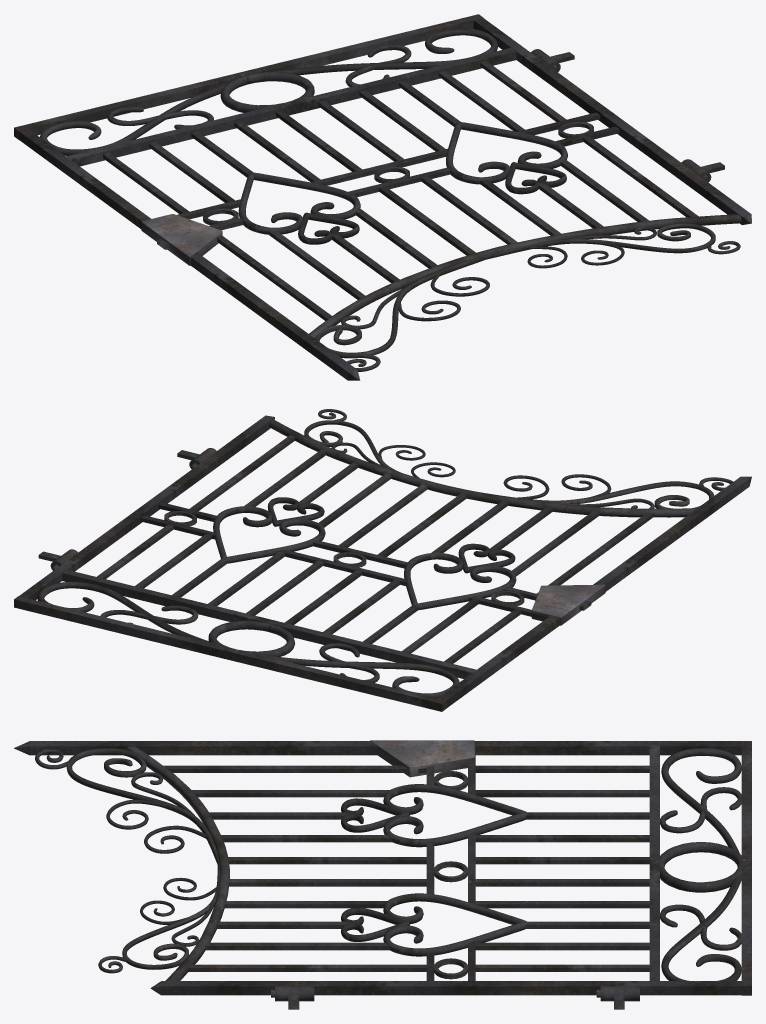
The model's file is GateDown.obj.
3 views of the same model, one above another, from view 1: azimuth 30°, elevation 25°; view 2: azimuth 150°, elevation 25°; view 3: azimuth 270°, elevation 25° (orthographic). The views are drawn at different scales.
Visible parts, largest first — view 1: Ancient_Gate_Model gate_left gate_main polySurface78 polySurface; view 2: Ancient_Gate_Model gate_left gate_main polySurface78 polySurface; view 3: Ancient_Gate_Model gate_left gate_main polySurface78 polySurface.
Part boxes in pixels (left/top/right/bottom): Ancient_Gate_Model gate_left gate_main polySurface78 polySurface: left=14, top=14, right=751, bottom=380; Ancient_Gate_Model gate_left gate_main polySurface78 polySurface: left=14, top=409, right=751, bottom=711; Ancient_Gate_Model gate_left gate_main polySurface78 polySurface: left=14, top=740, right=751, bottom=1001.
Bounding box in the file's own units: 14.39 × 0.3358 × 16.94.
Materials: 1 (1 with a texture image).
